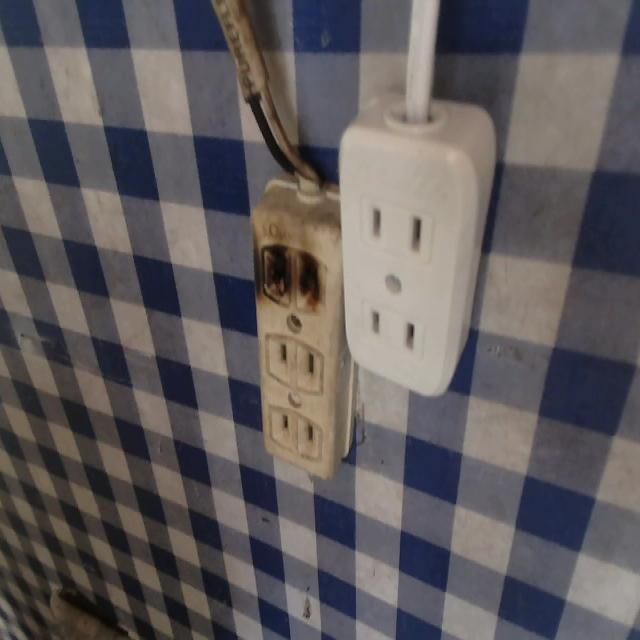-: (245, 221, 333, 311)
